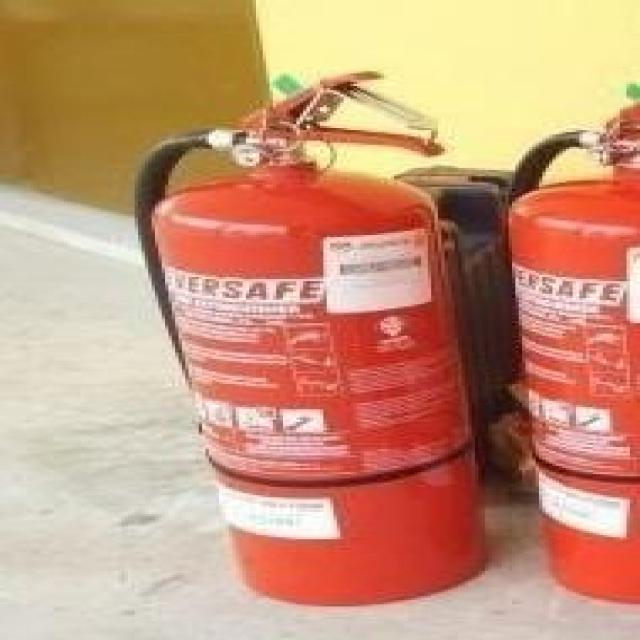fire_extinguisher: (121, 66, 492, 608), (495, 78, 637, 608)
